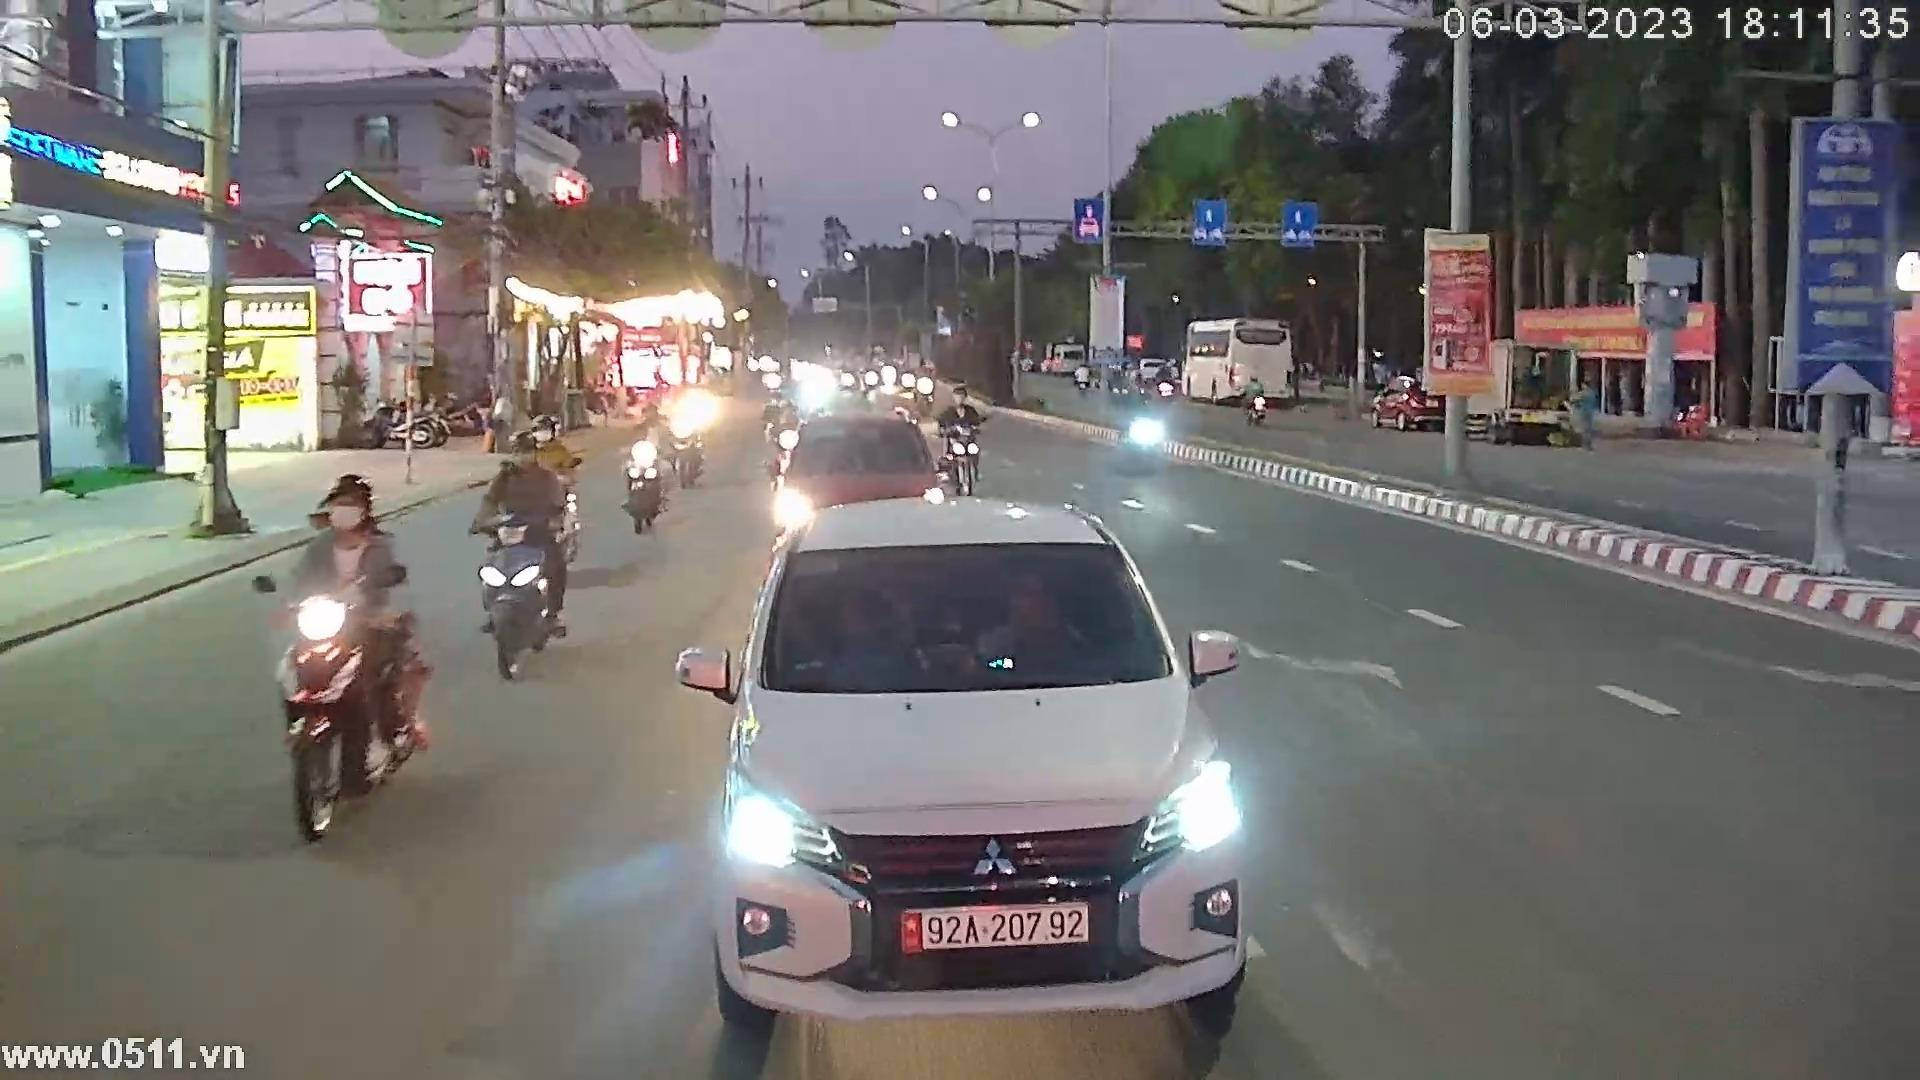bus: (1178, 313, 1299, 407)
car: (674, 488, 1249, 1046), (762, 409, 949, 571), (1365, 363, 1465, 436)
motorcycle: (249, 475, 436, 845), (467, 425, 579, 686), (615, 397, 674, 530), (935, 378, 989, 497), (1233, 371, 1276, 423)
truck: (1458, 340, 1576, 452)
